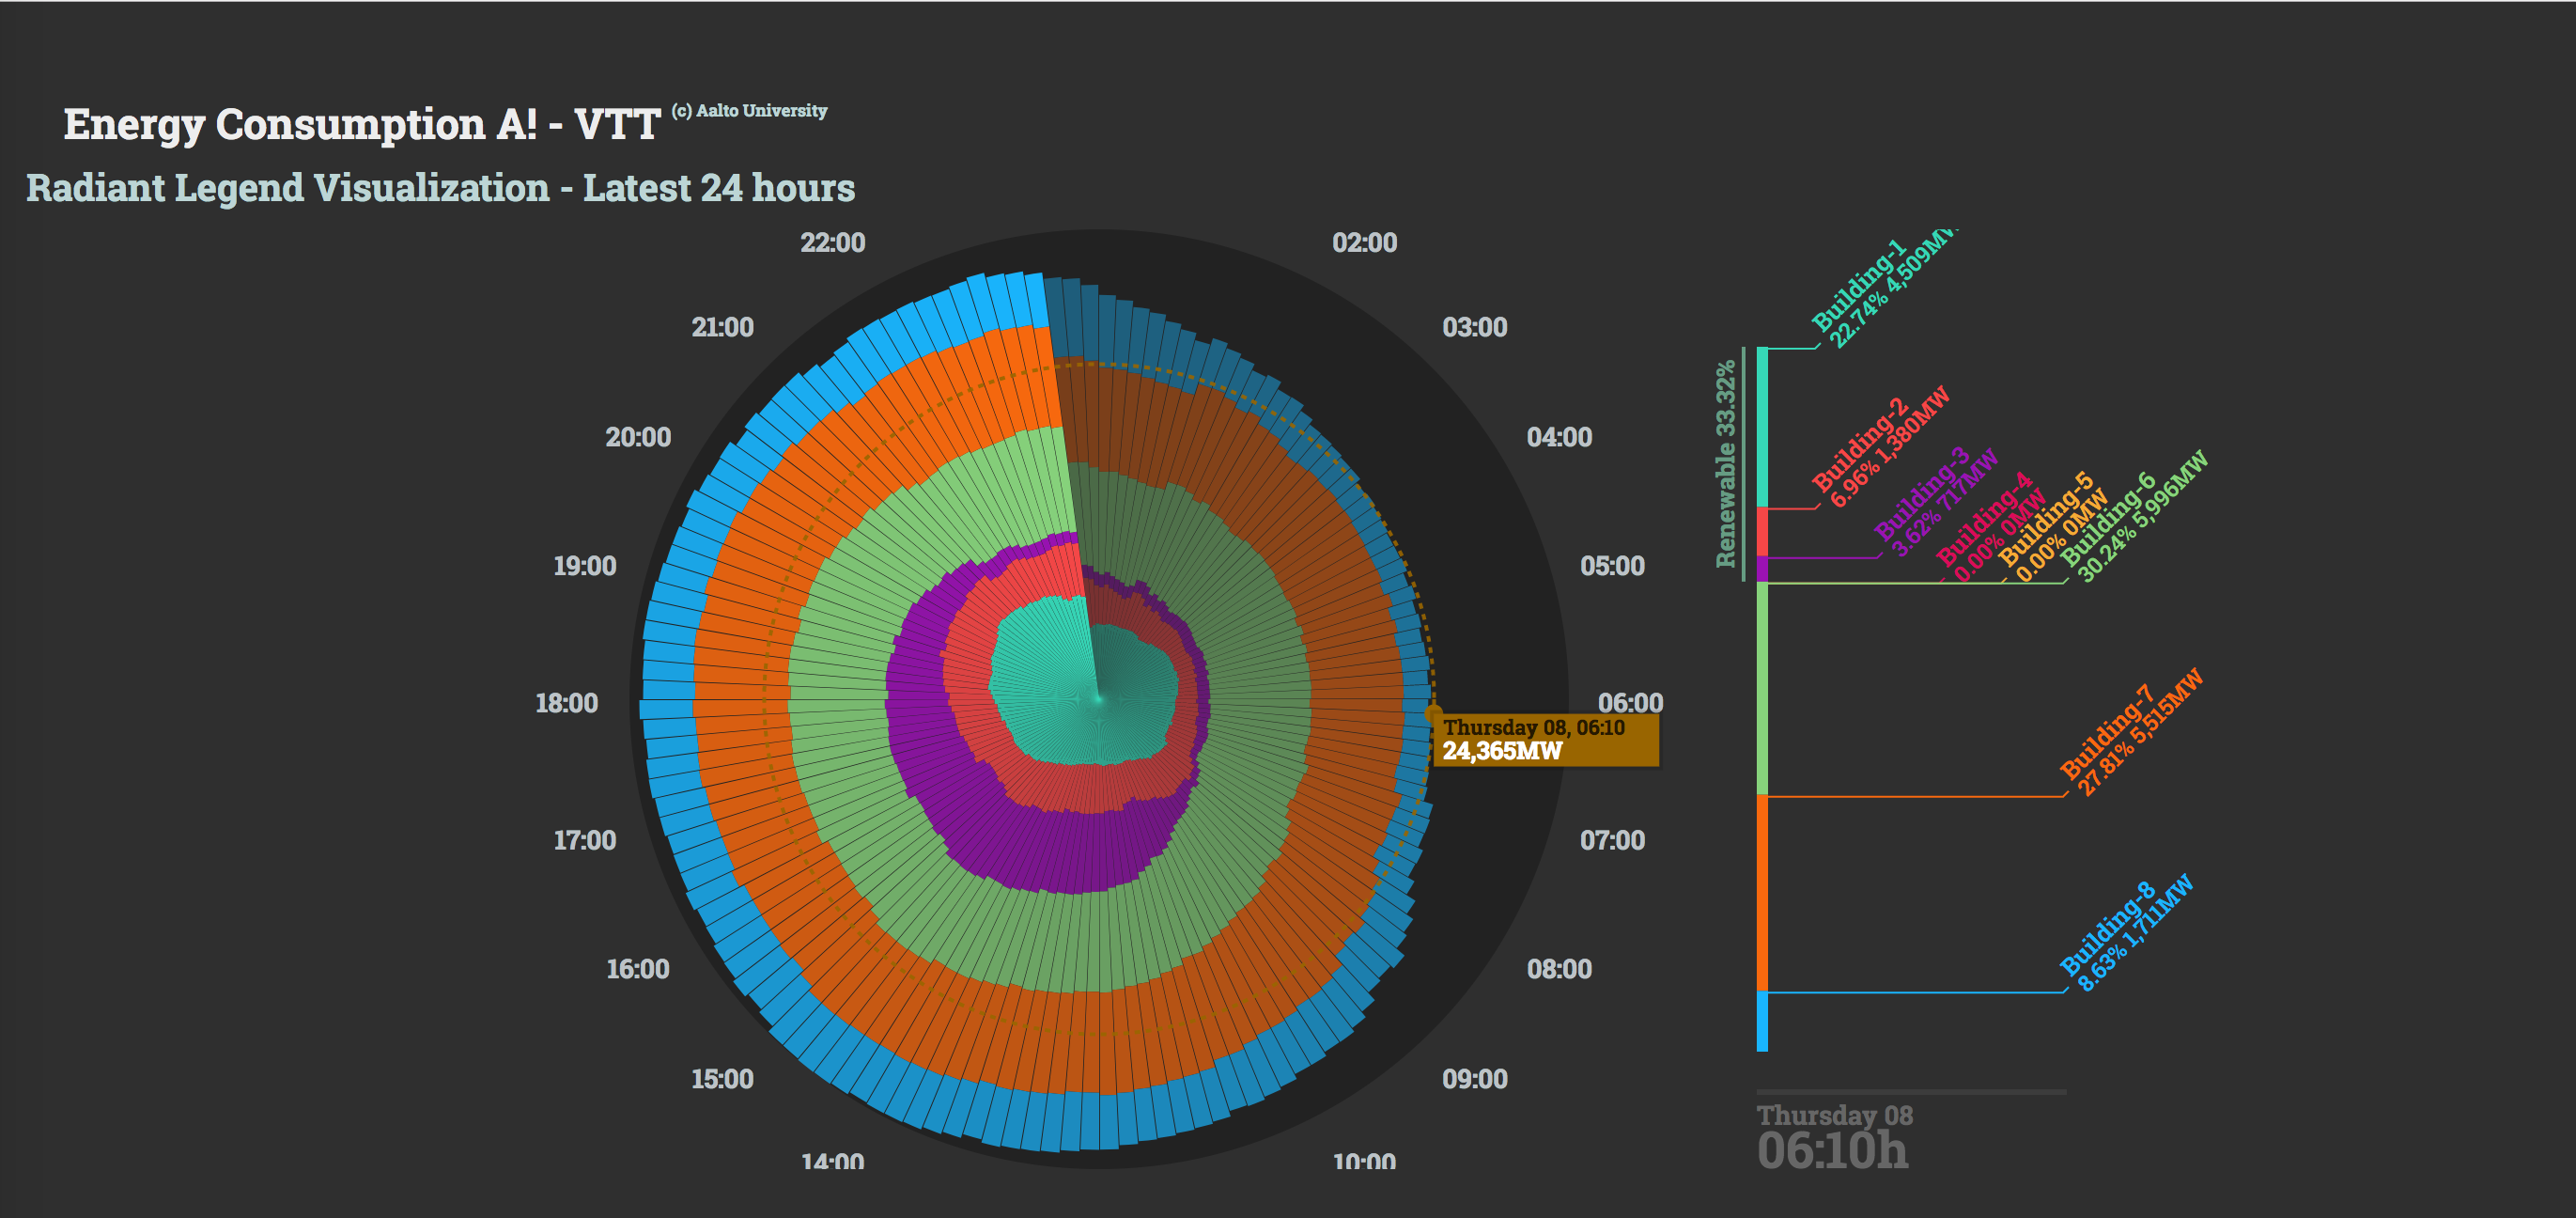

What the dashboard file says about the page in this screenshot:
{"tool":"tableau","page":{"name":"Dashboard 1","canvas":[800,600],"ordinal":0},"visuals":[{"type":"worksheet","title":"classification","mark":"Automatic","rows":["heat_Wh_per_m2"],"cols":["elec_Wh_per_m2"],"box":[0,0,640,600]},{"type":"filter","title":"classification","param":"[textscan.41913.973997222223].[none:building:ok]","box":[640,0,160,59]},{"type":"filter","title":"classification","param":"[textscan.41913.973997222223].[none:month:qk]","box":[640,59,160,69]},{"type":"legend","title":"classification","param":"[textscan.41913.973997222223].[sum:cluster:qk]","box":[640,128,160,63]},{"type":"legend","title":"classification","param":"[textscan.41913.973997222223].[sum:area:qk]","box":[640,191,160,126]}]}

Visuals, with their boxes on the page's 800x600 design canvas (x1, y1, x2, y2). These are canvas units, not pixel positions in the 2576x1218 screenshot, which may show the page scaled, cropped or inside an application window:
"classification" worksheet: box=[0, 0, 640, 600]
"classification" filter: box=[640, 0, 800, 59]
"classification" filter: box=[640, 59, 800, 128]
"classification" legend: box=[640, 128, 800, 191]
"classification" legend: box=[640, 191, 800, 317]
